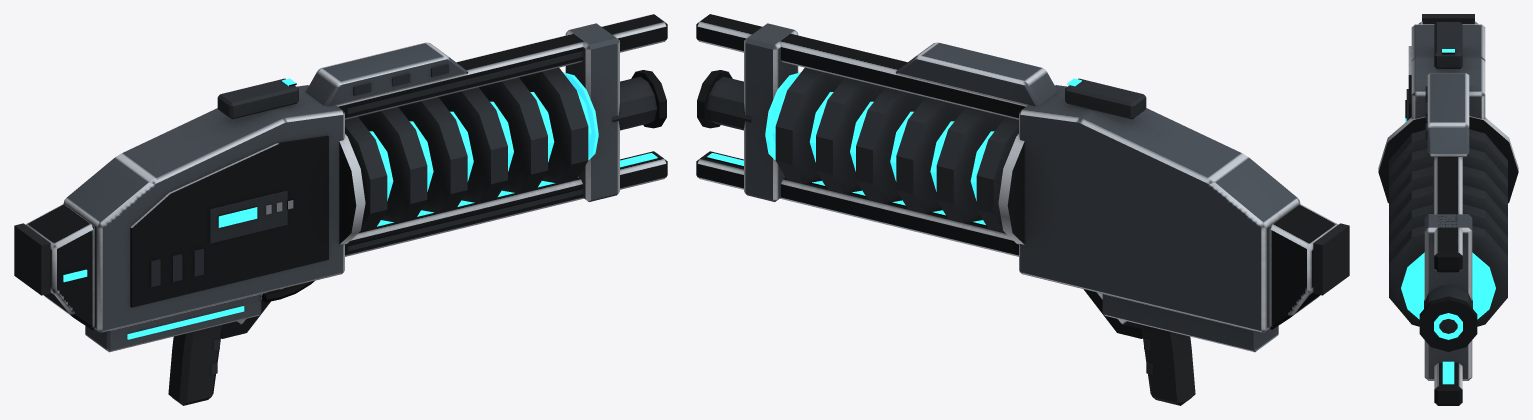
The model's file is opr_wpn_kinetic_accelerator_b.glb.
3 renders of one model, left to right at view 1: azimuth 30°, elevation 25°; view 2: azimuth 150°, elevation 25°; view 3: azimuth 270°, elevation 25°, orthographic. The views are drawn at different scales.
Parts seen in each view (by area): view 1: mesh_intact; view 2: mesh_intact; view 3: mesh_intact.
Part boxes in pixels (x1,y1,x2,y2): mesh_intact: (14, 14, 667, 405); mesh_intact: (696, 14, 1349, 405); mesh_intact: (1378, 14, 1518, 405).
Size of the model in its own units: 0.7544 by 0.333 by 0.148.
1 material, 1 textured.
